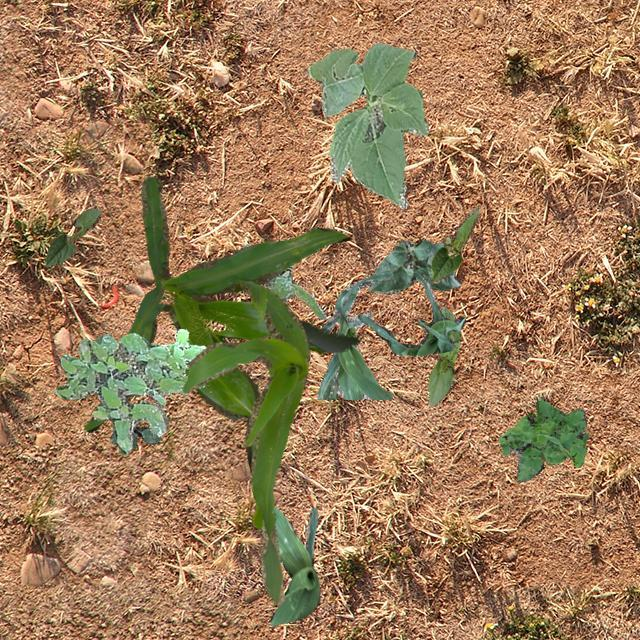crop: (84, 175, 358, 528), (182, 278, 308, 604), (306, 41, 428, 208), (316, 271, 392, 398), (356, 272, 464, 356), (270, 506, 318, 624), (368, 238, 460, 294), (429, 205, 478, 282), (44, 206, 100, 266), (428, 304, 460, 404)
weed: (54, 328, 204, 453), (498, 396, 588, 480), (242, 242, 324, 318), (110, 422, 160, 448)
